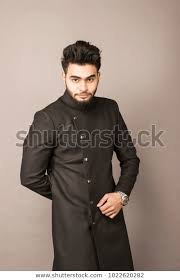Indian_Male: (62, 44, 103, 102)
